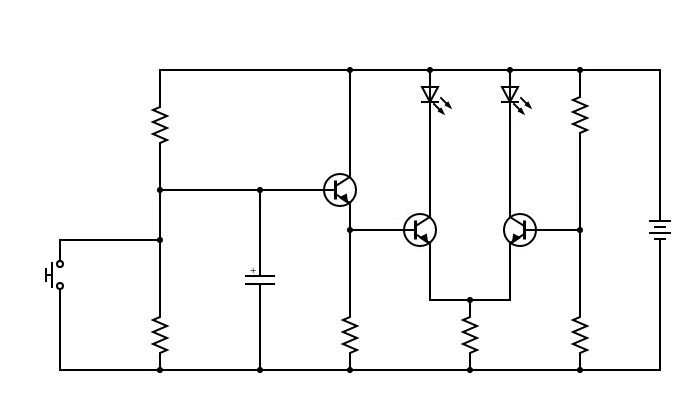Battery: (646, 215, 675, 245)
Capacitor: (38, 253, 70, 294), (239, 264, 280, 292)
Diode: (418, 81, 454, 118), (497, 81, 535, 116)
Resistor: (146, 100, 175, 149), (567, 307, 592, 358), (567, 92, 594, 139), (338, 309, 362, 357), (457, 313, 482, 358), (149, 313, 172, 357)
Transistor: (320, 168, 360, 211), (400, 210, 439, 251), (501, 211, 540, 248)
